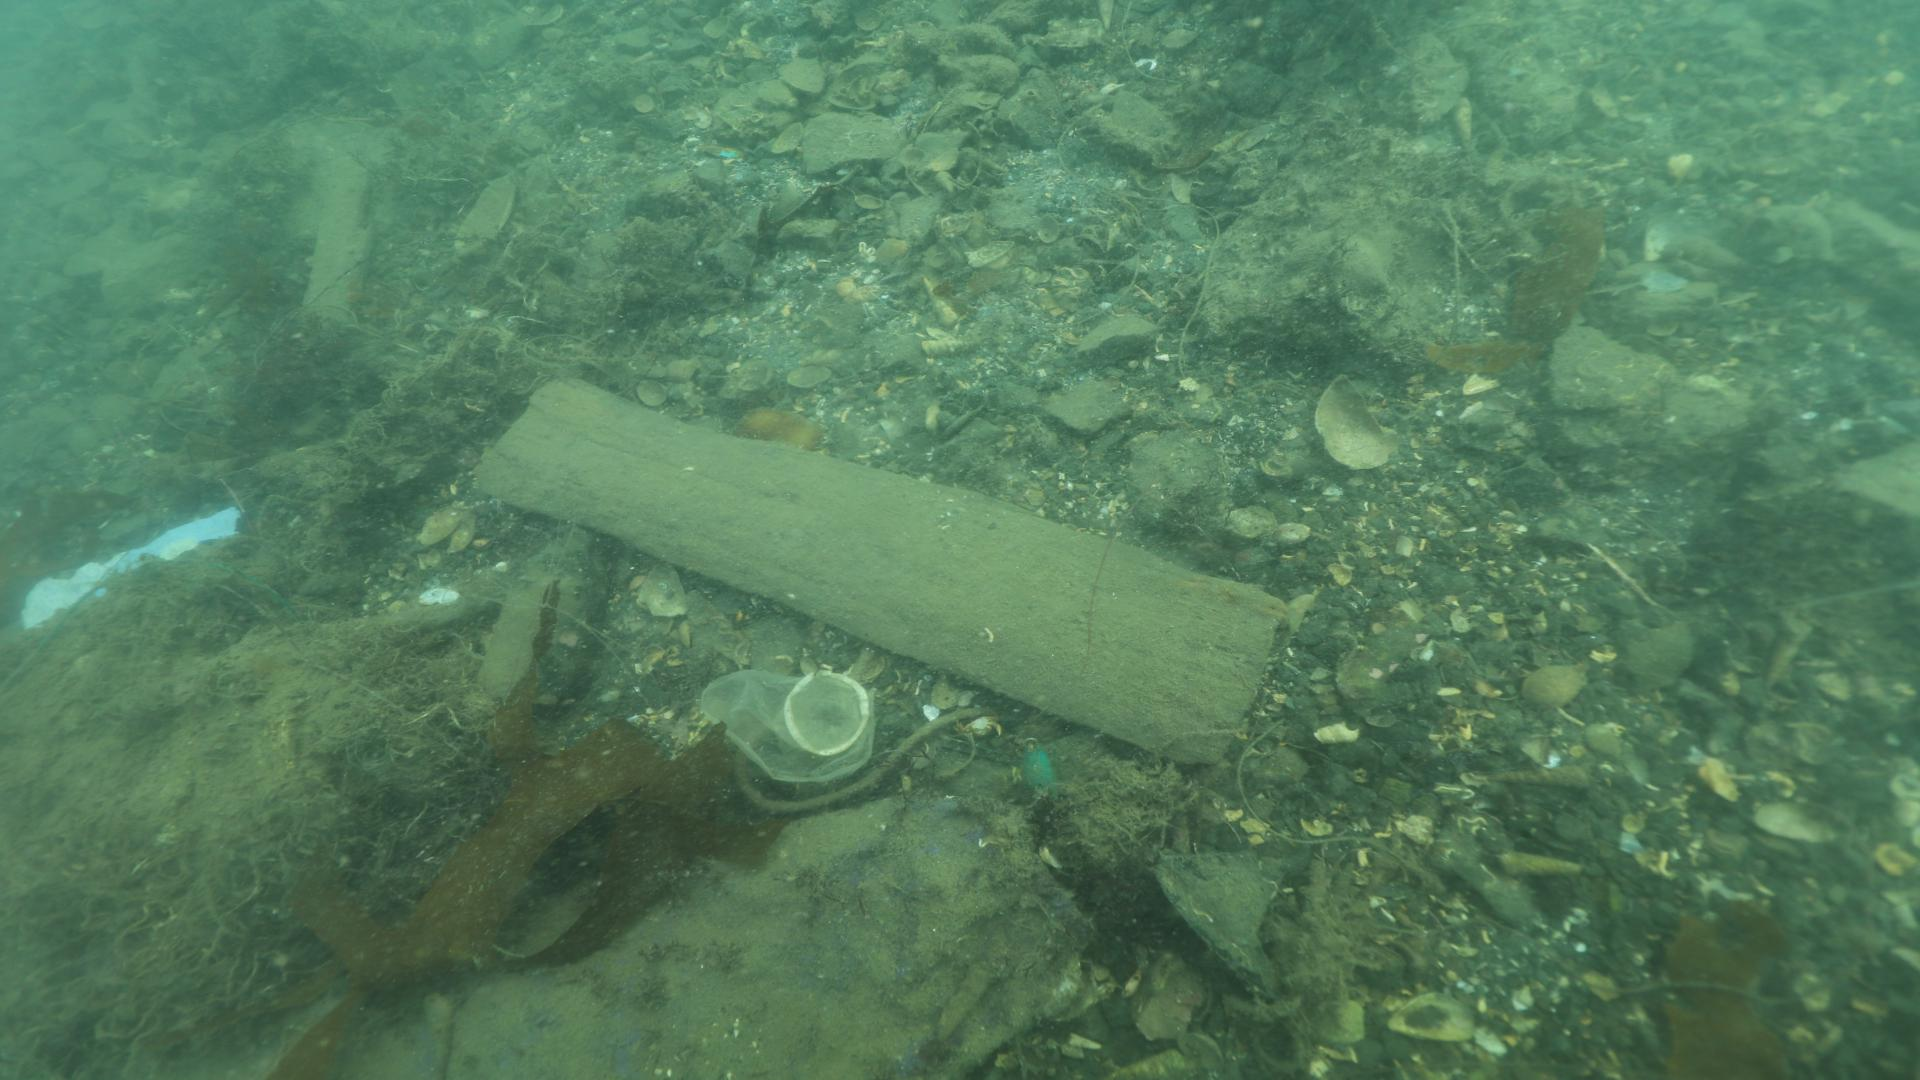wood: (458, 381, 1294, 770)
